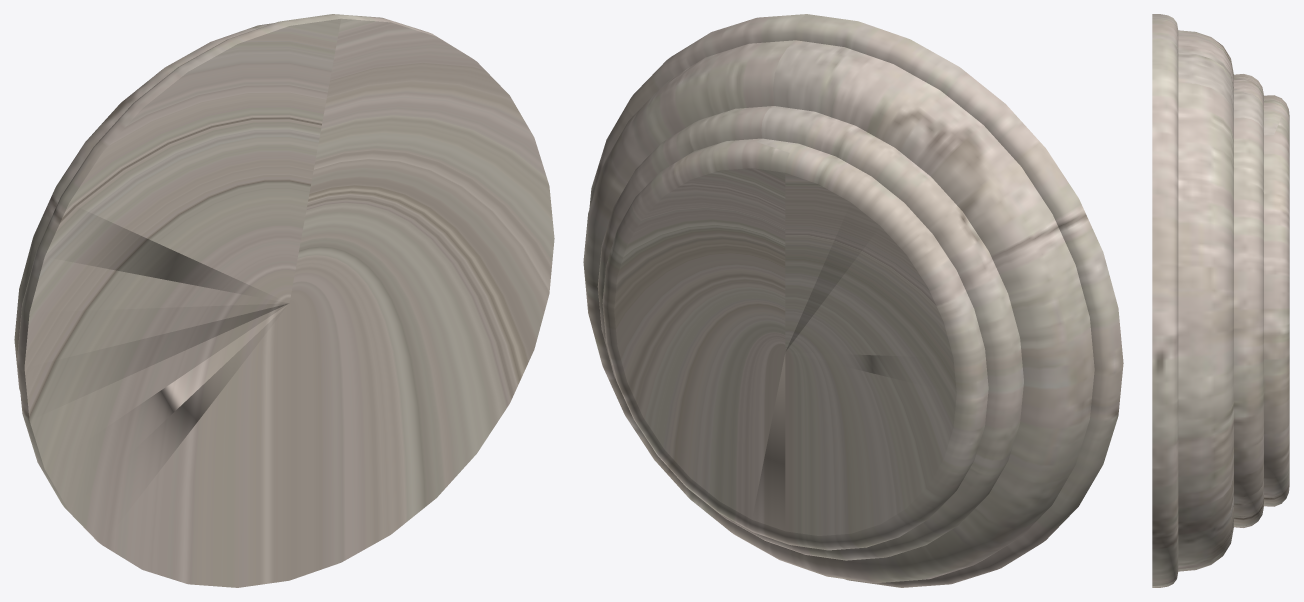
The model's file is pasted__marble_tile_217.fbx.
The picture shows the model from 3 angles, left to right: view 1: azimuth 30°, elevation 25°; view 2: azimuth 150°, elevation 25°; view 3: azimuth 270°, elevation 25°; orthographic projection. The views are drawn at different scales.
Visible parts, largest first — view 1: pasted__marble_tile_217; view 2: pasted__marble_tile_217; view 3: pasted__marble_tile_217.
Part boxes in pixels (left/top/right/bottom): pasted__marble_tile_217: left=14, top=14, right=554, bottom=587; pasted__marble_tile_217: left=583, top=14, right=1123, bottom=587; pasted__marble_tile_217: left=1152, top=14, right=1289, bottom=587.
Size of the model in its own units: 48.5 by 11.58 by 48.5.
